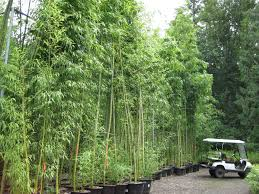bamboo: (3, 1, 144, 183), (148, 2, 201, 160)
